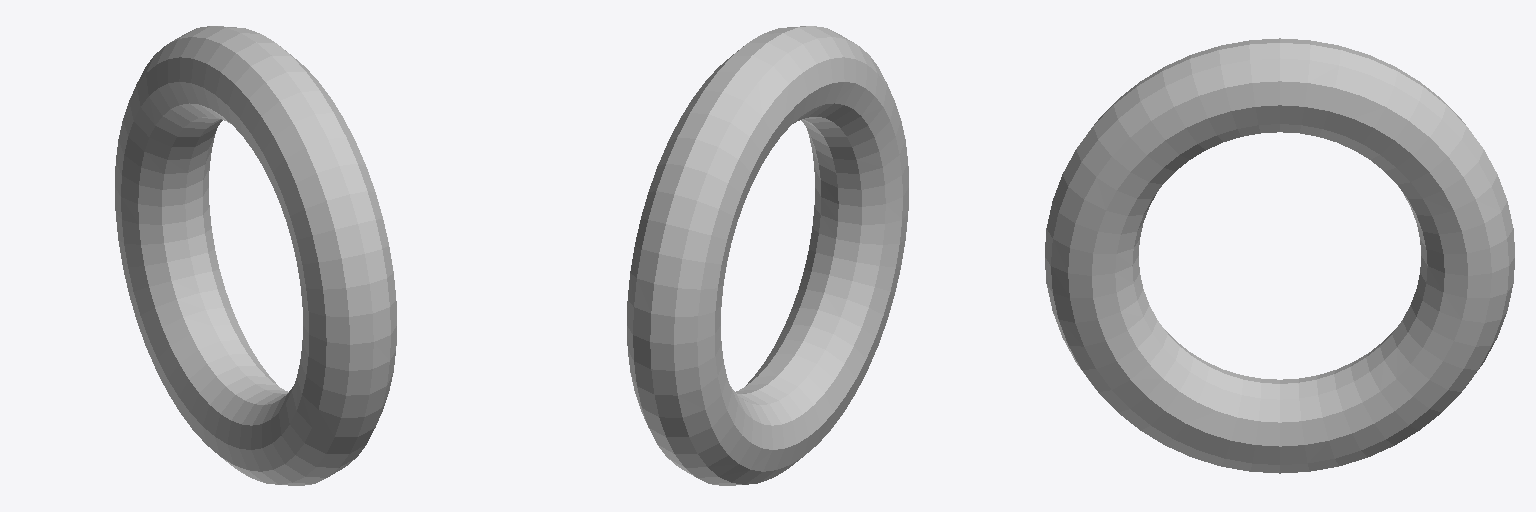
Rendered from lip ring - Copy.obj.
The picture shows the model from 3 angles: view 1: azimuth 30°, elevation 25°; view 2: azimuth 150°, elevation 25°; view 3: azimuth 270°, elevation 25°; orthographic projection.
Parts seen in each view (by area): view 1: Face.001; view 2: Face.001; view 3: Face.001.
Boxes of the visible parts, x1,y1,x2,y2 form: Face.001: [115, 26, 396, 485]; Face.001: [627, 26, 908, 485]; Face.001: [1045, 38, 1514, 473].
Bounding box in the file's own units: 0.0022 × 0.0111 × 0.0111.